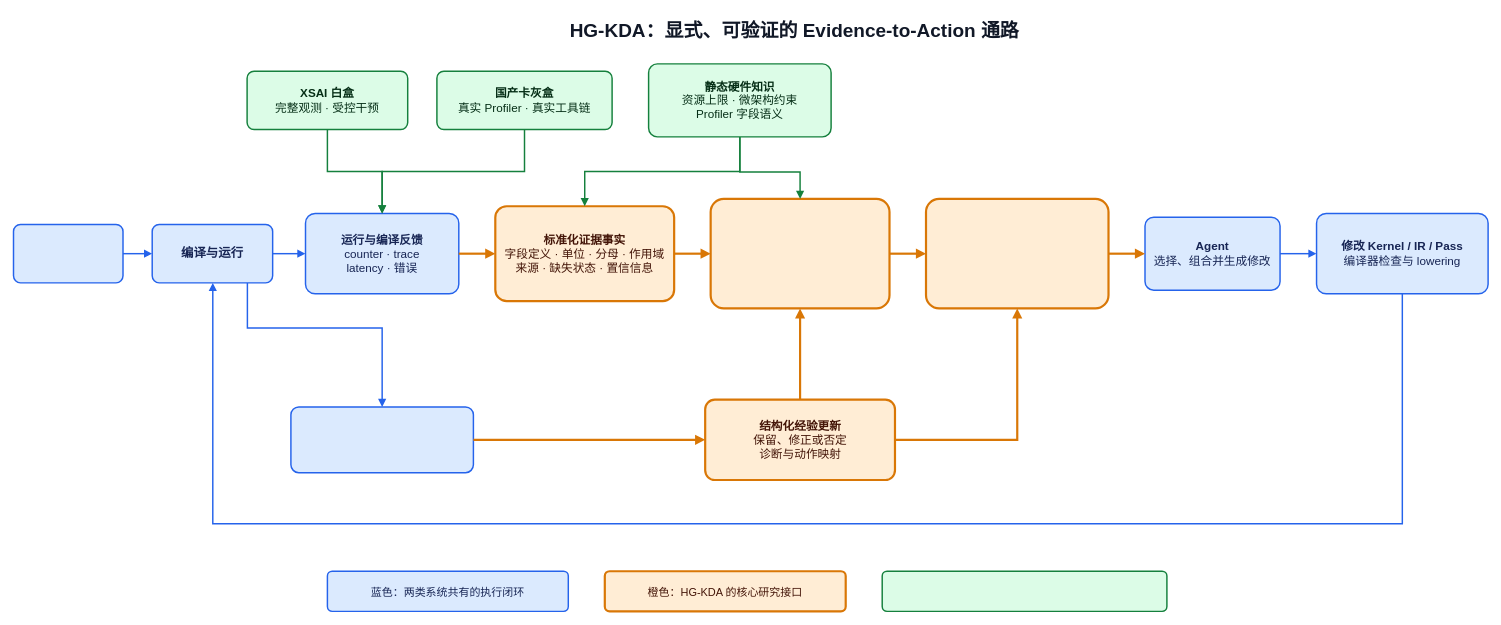
The diagram is 1501 pixels wide and 625 high, and some of its shapes have lost their labels. Each missing label, with the box of its shape:
Kernel 代码: (12, 223, 123, 283)
结构化候选动作 触发条件 · 适用前提 预期影响 · 风险 验证方法 · 回退条件: (925, 197, 1109, 309)
结果验证 正确性 · Speedup · 证据变化: (290, 406, 474, 473)
绿色：白盒/灰盒硬件证据与静态知识: (881, 570, 1167, 612)
语义瓶颈诊断 瓶颈类别 · 原因子类 严重度 · 诊断置信度 支持证据 · 反对证据: (709, 197, 890, 309)
